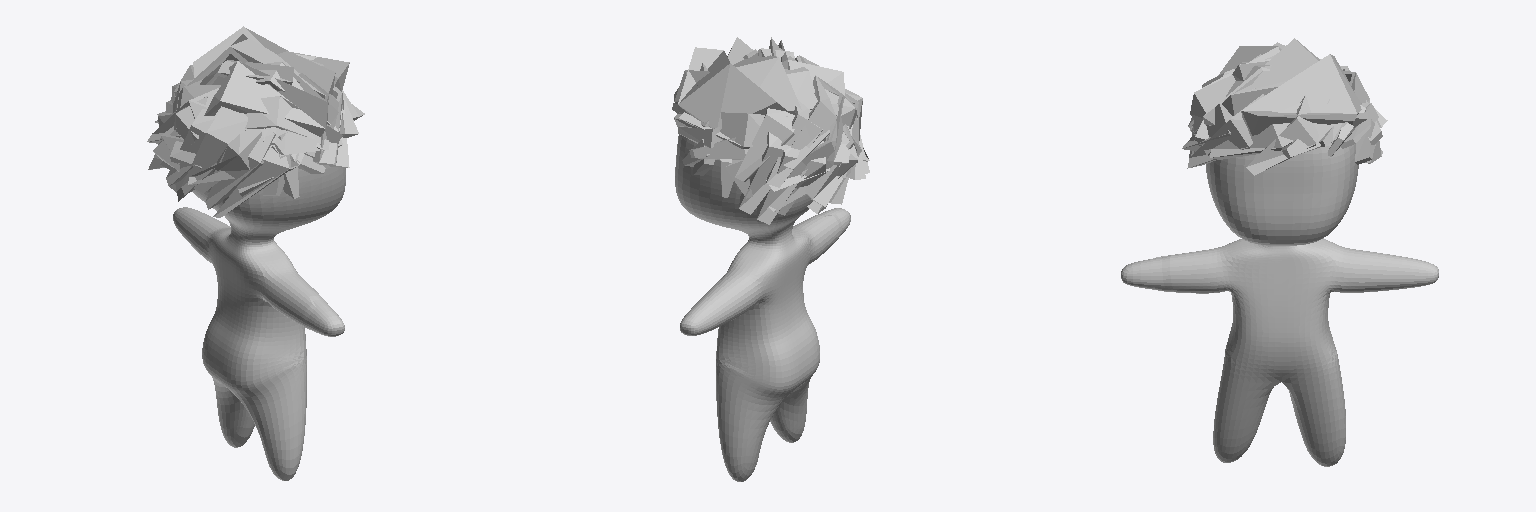
File: Human04.obj
3 renders of one model, left to right at view 1: azimuth 30°, elevation 25°; view 2: azimuth 150°, elevation 25°; view 3: azimuth 270°, elevation 25°, orthographic.
Visible parts, largest first — view 1: pasted__pasted__pCube1_pasted__pasted__pCube1mesh.001, pasted__pasted__pasted__pasted__pCube2.001_pasted__pasted__paste, pasted__pasted__pasted__pasted__pCube2_pasted__pasted__pasted__p; view 2: pasted__pasted__pCube1_pasted__pasted__pCube1mesh.001, pasted__pasted__pasted__pasted__pCube2.001_pasted__pasted__paste, pasted__pasted__pasted__pasted__pCube2_pasted__pasted__pasted__p; view 3: pasted__pasted__pasted__pasted__pCube2.001_pasted__pasted__paste, pasted__pasted__pCube1_pasted__pasted__pCube1mesh.001, pasted__pasted__pasted__pasted__pCube2_pasted__pasted__pasted__p.
Boxes of the visible parts, x1=… form: pasted__pasted__pCube1_pasted__pasted__pCube1mesh.001: x1=147, y1=26, x2=364, y2=217; pasted__pasted__pasted__pasted__pCube2.001_pasted__pasted__paste: x1=173, y1=207, x2=344, y2=480; pasted__pasted__pasted__pasted__pCube2_pasted__pasted__pasted__p: x1=192, y1=165, x2=345, y2=258; pasted__pasted__pCube1_pasted__pasted__pCube1mesh.001: x1=672, y1=37, x2=869, y2=224; pasted__pasted__pasted__pasted__pCube2.001_pasted__pasted__paste: x1=680, y1=208, x2=850, y2=481; pasted__pasted__pasted__pasted__pCube2_pasted__pasted__pasted__p: x1=675, y1=114, x2=812, y2=259; pasted__pasted__pasted__pasted__pCube2.001_pasted__pasted__paste: x1=1121, y1=238, x2=1438, y2=466; pasted__pasted__pCube1_pasted__pasted__pCube1mesh.001: x1=1182, y1=38, x2=1387, y2=175; pasted__pasted__pasted__pasted__pCube2_pasted__pasted__pasted__p: x1=1206, y1=142, x2=1358, y2=251.
Bounding box in the file's own units: 1.29 × 2.67 × 1.84.